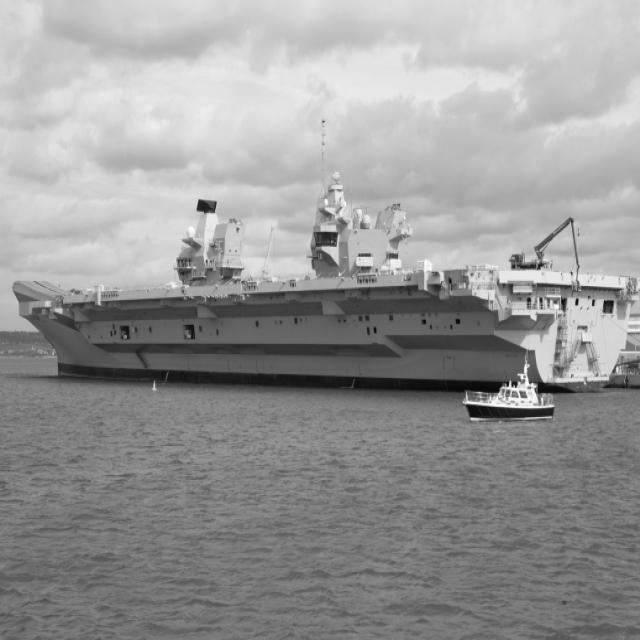Portanaves: (7, 151, 640, 396)
